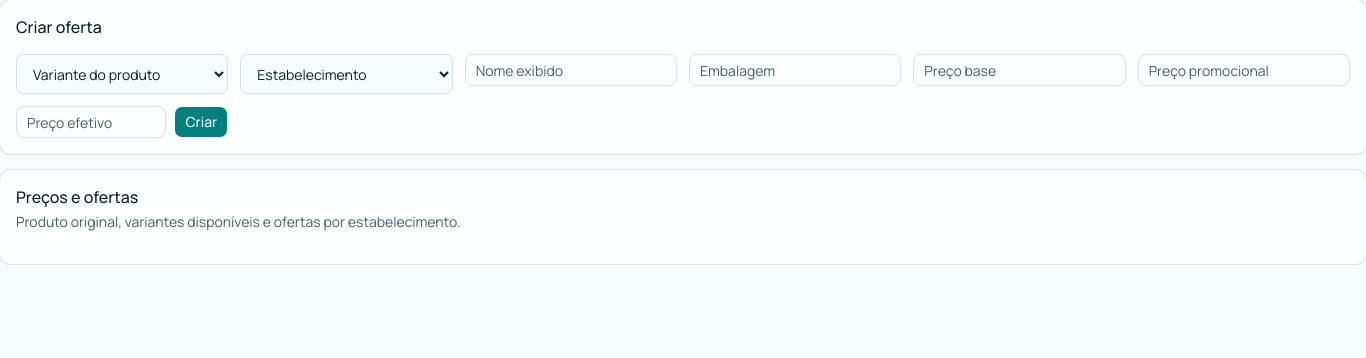
Test: Admin dashboard pages › shows friendly backend validation errors without exposing raw JSON
Select "variant-1" in the 1st dropdown: (122, 74) [16,54,228,94]
Select "Mercado Centro" in the 2nd dropdown: (346, 74) [240,54,453,94]
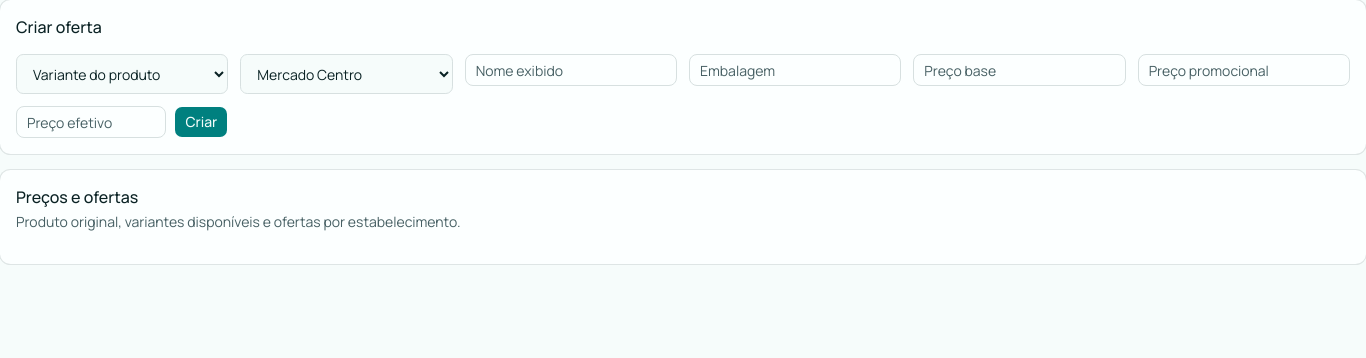
In the field with placeholder "Preço efetivo": (91, 122) [16,106,166,138], type "14,99"
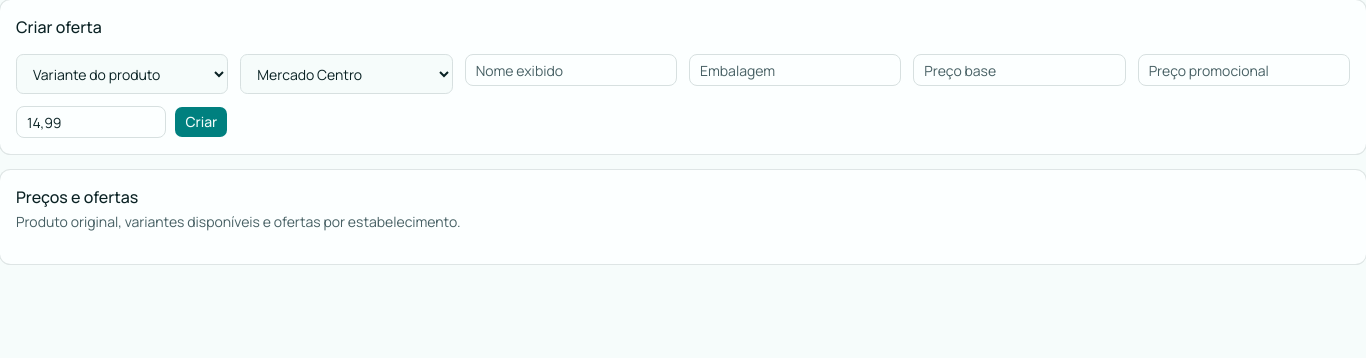
Click the button "Criar": click(201, 122) [174,106,228,138]
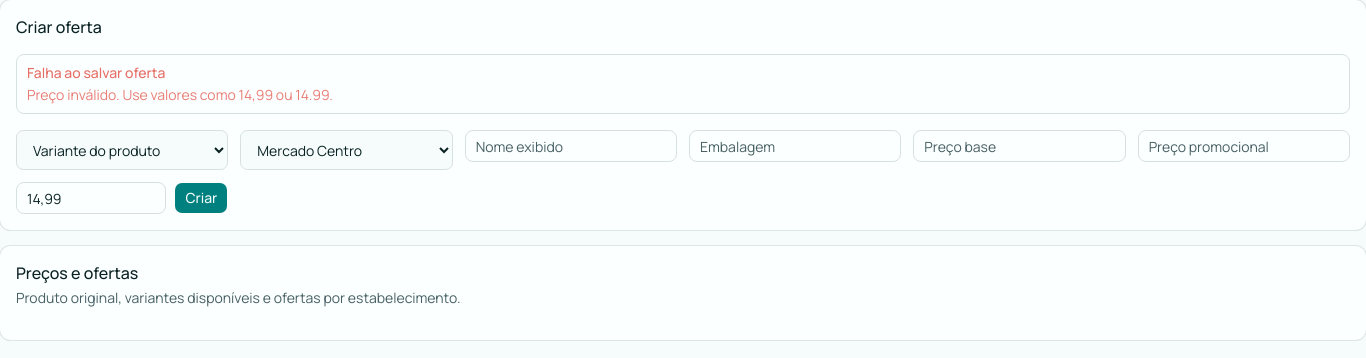
Now the text "Preço inválido. Use valores como 14,99 ou 14.99." is shown, box [27,85,333,104]
